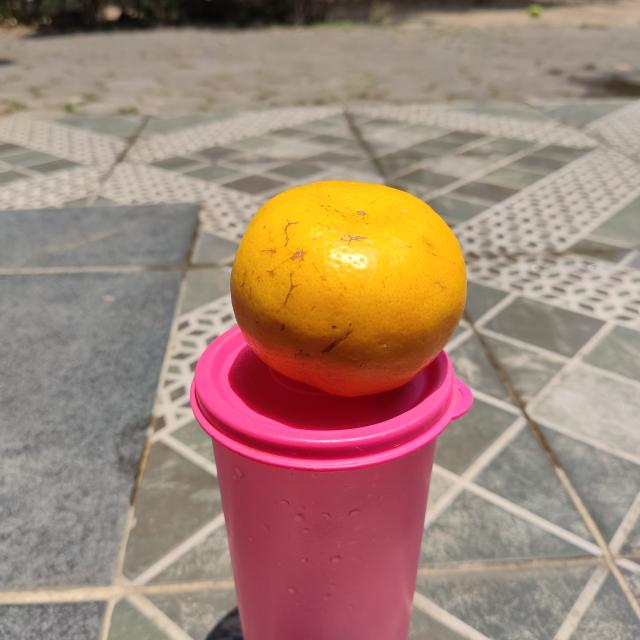orange: (230, 180, 467, 398)
